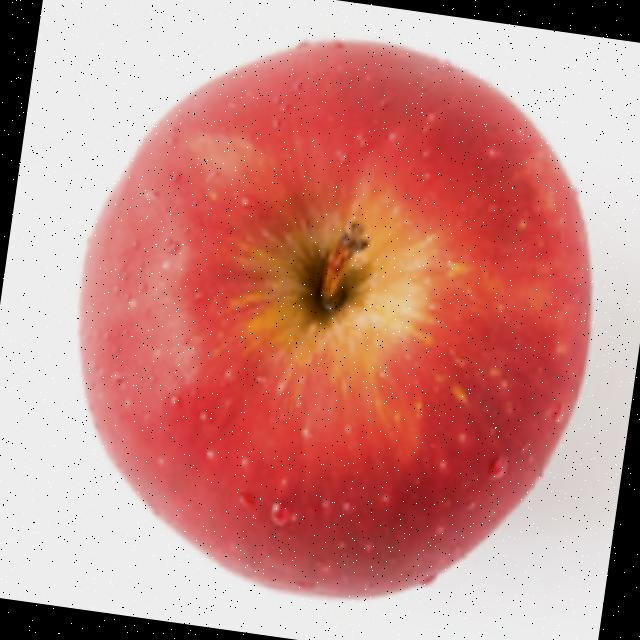Ripe: (37, 0, 633, 630)
